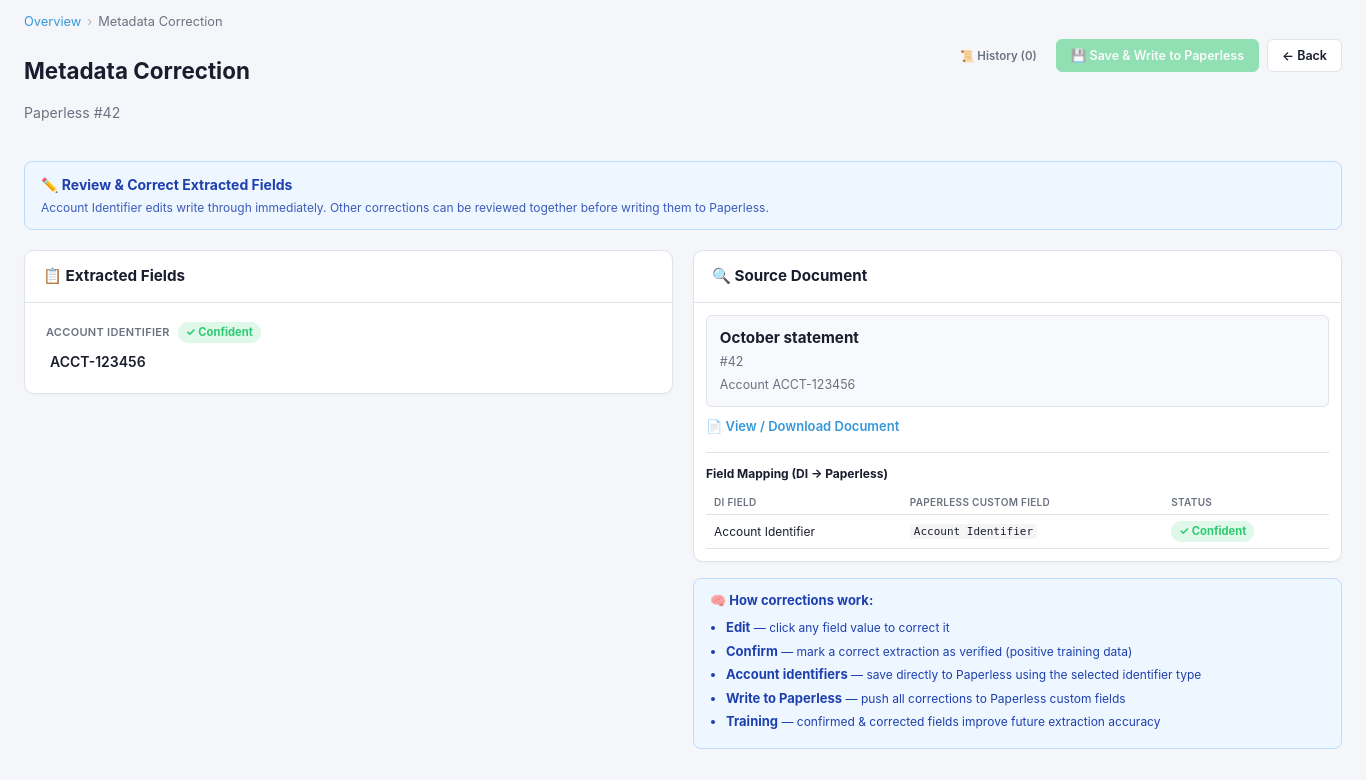
Scenario: MetadataCorrection account identifier › shows the exact value and writes edits directly to Paperless with a classification
Click the text titled "Click to edit".
click(98, 361)  # box [50,353,146,370]
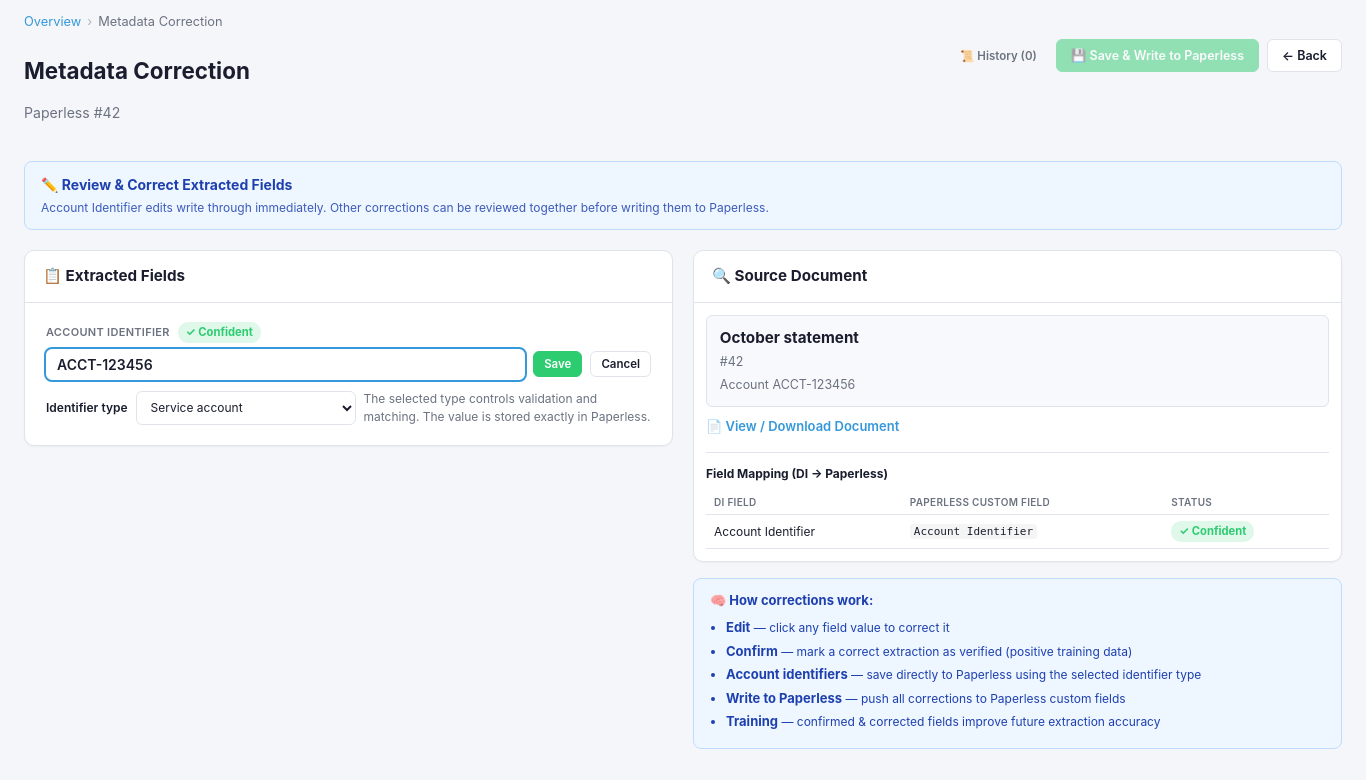
Replace the text in the field named "account identifier" with "ACCT-654321" at (286, 364), box [46,349,525,380]
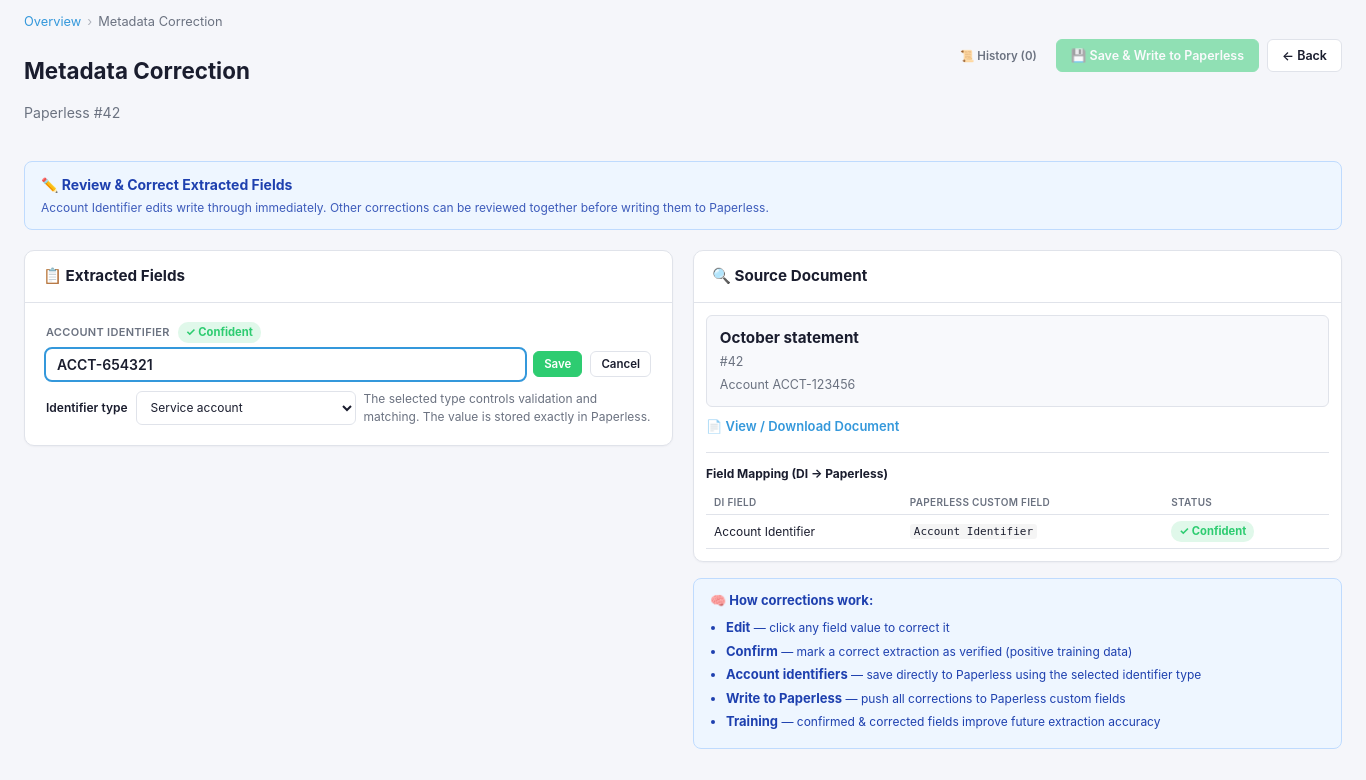
Select "Provider account" in the dropdown labelled "Identifier type" at (246, 408), box [136,391,356,425]
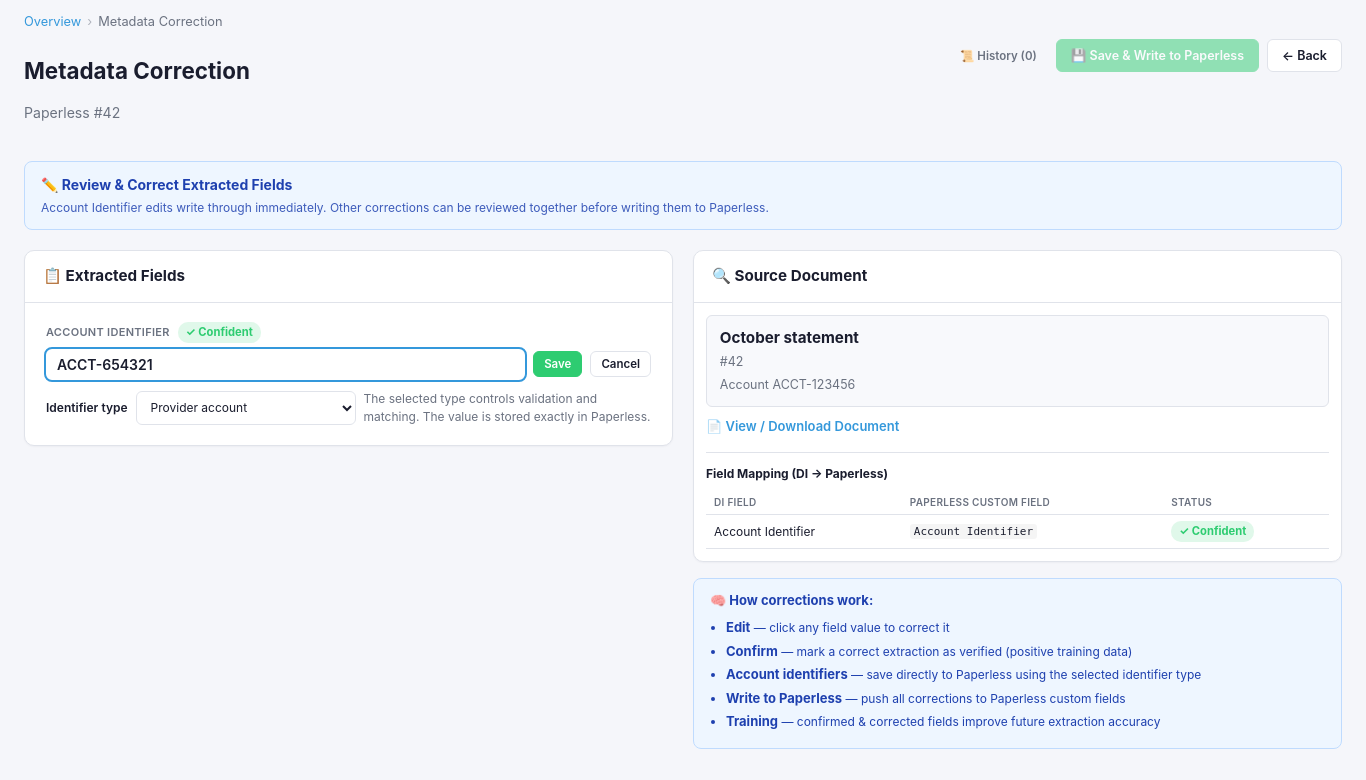
Click the button "Save".
click(558, 364)  # box [533,351,582,377]
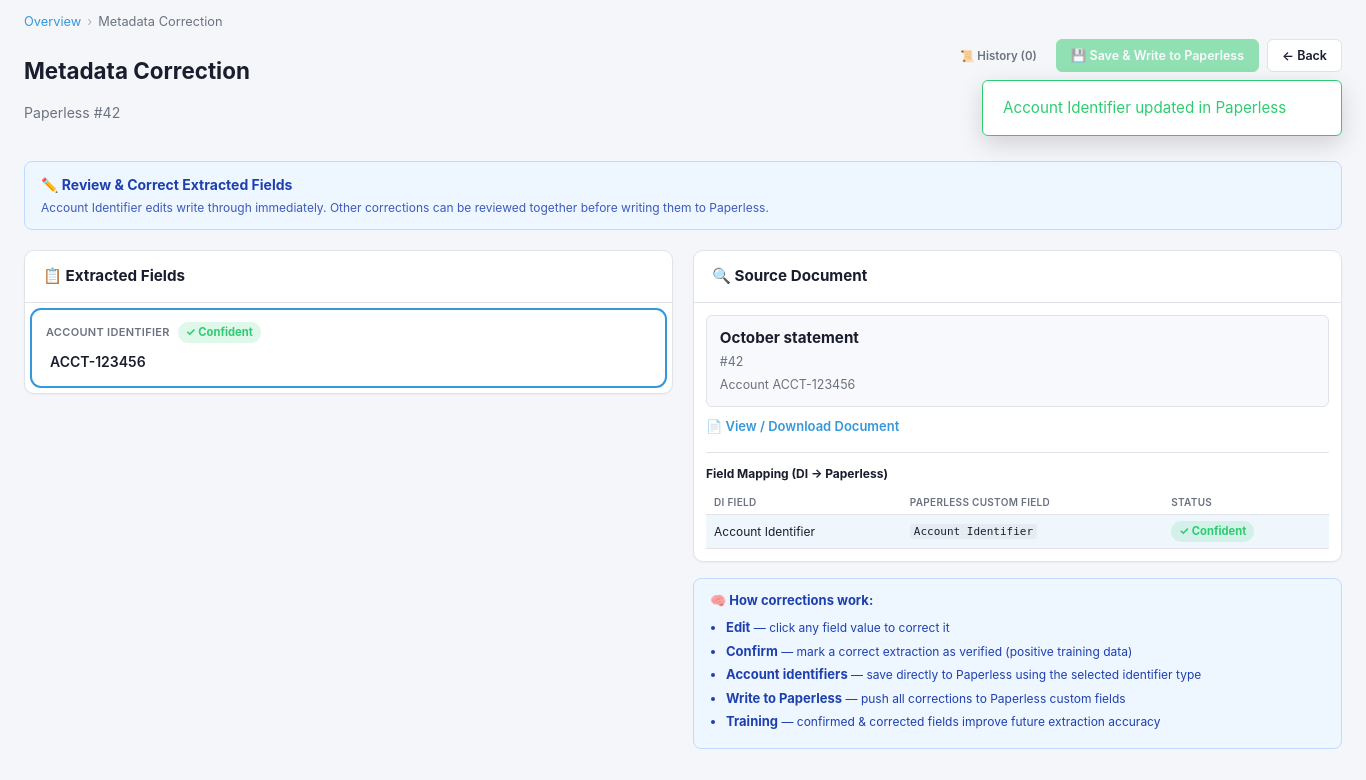
Result: the text "Account Identifier updated in Paperless" is shown at [1003,97,1321,119]
